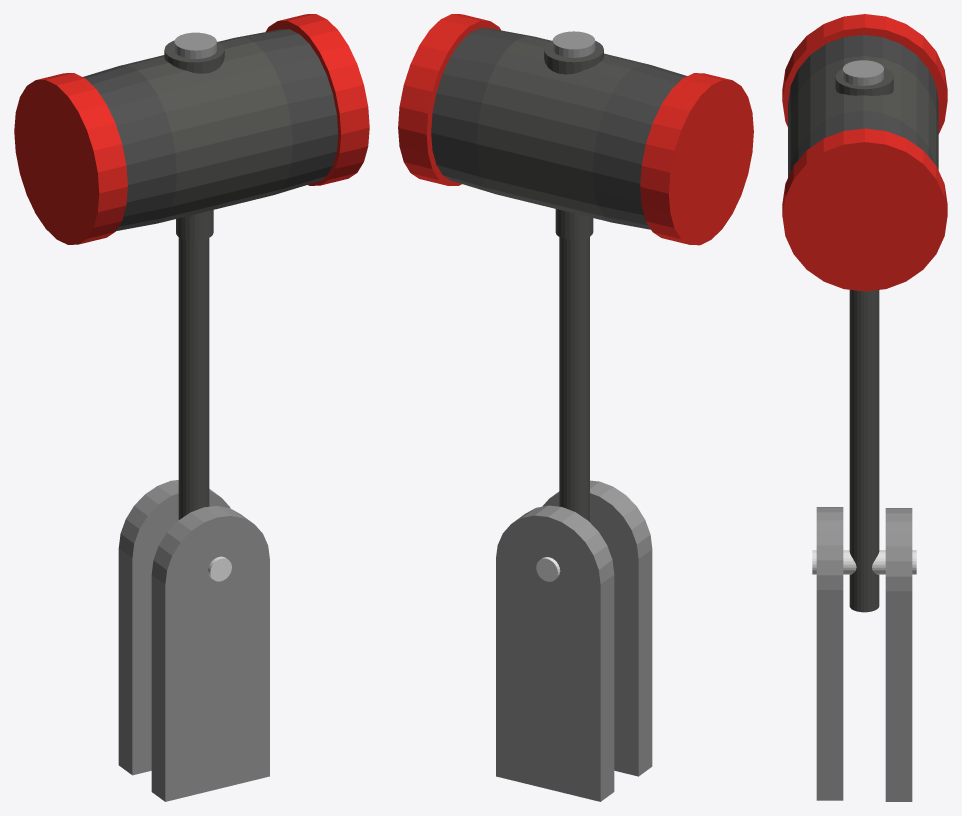
The model's file is obstacle15.fbx.
The picture shows the model from 3 angles, left to right: view 1: azimuth 30°, elevation 25°; view 2: azimuth 150°, elevation 25°; view 3: azimuth 270°, elevation 25°; orthographic projection. The views are drawn at different scales.
Parts seen in each view (by area): view 1: obstacle15.2, obstacle15.1; view 2: obstacle15.2, obstacle15.1; view 3: obstacle15.2, obstacle15.1.
Boxes of the visible parts, left/top/right/bottom form: obstacle15.2: left=14, top=14, right=369, bottom=519; obstacle15.1: left=118, top=480, right=269, bottom=801; obstacle15.2: left=398, top=14, right=753, bottom=521; obstacle15.1: left=496, top=480, right=652, bottom=801; obstacle15.2: left=782, top=14, right=947, bottom=612; obstacle15.1: left=812, top=507, right=916, bottom=801.
Size of the model in its own units: 44.36 by 114 by 24.15.
